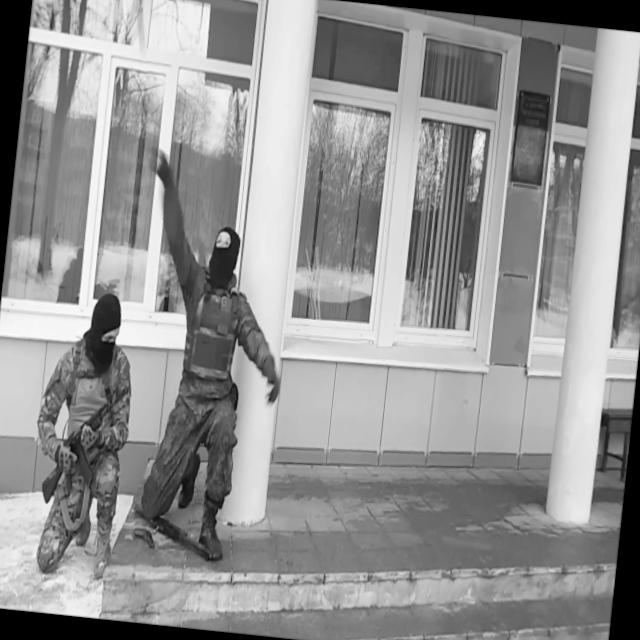gun: (38, 374, 127, 512), (130, 497, 218, 564), (130, 523, 158, 552)
person with a gun: (113, 148, 304, 570), (20, 283, 143, 581)
